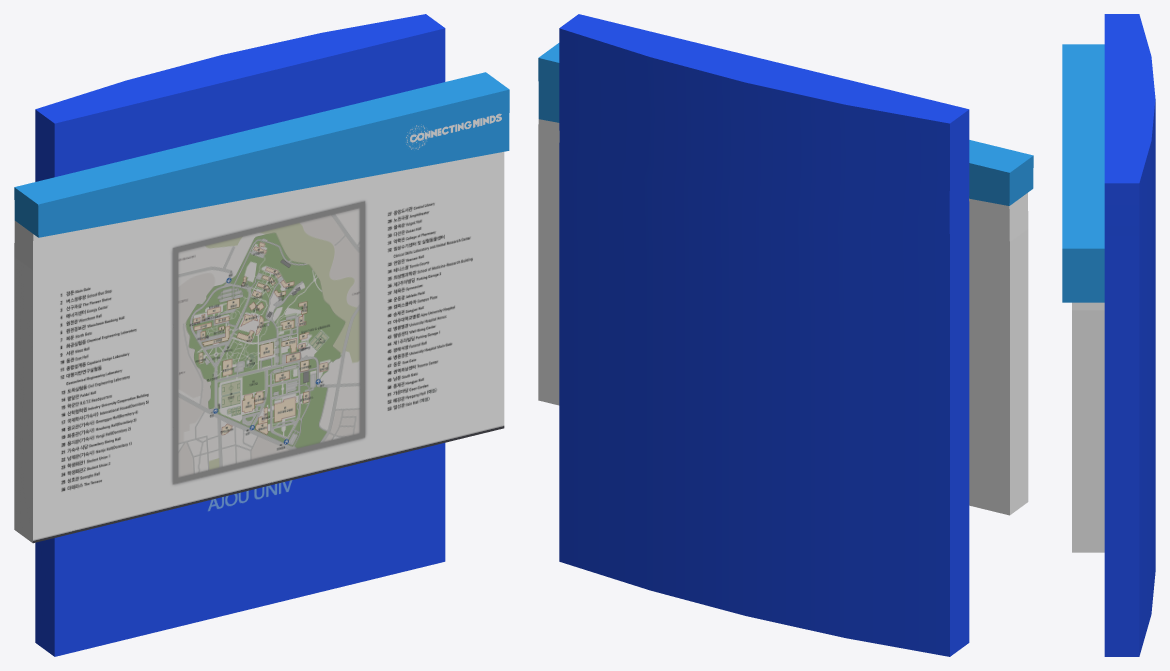
Rendered from building_librarymap.gltf.
3 renders of one model, left to right at view 1: azimuth 30°, elevation 25°; view 2: azimuth 150°, elevation 25°; view 3: azimuth 270°, elevation 25°, orthographic. The views are drawn at different scales.
Parts seen in each view (by area): view 1: building_librarymap; view 2: building_librarymap; view 3: building_librarymap.
Boxes of the visible parts, left/top/right/bottom form: building_librarymap: left=14, top=14, right=509, bottom=656; building_librarymap: left=538, top=14, right=1033, bottom=656; building_librarymap: left=1062, top=14, right=1155, bottom=656.
Bounding box in the file's own units: 0.6136 × 0.6633 × 0.1181.
1 material, 1 textured.
